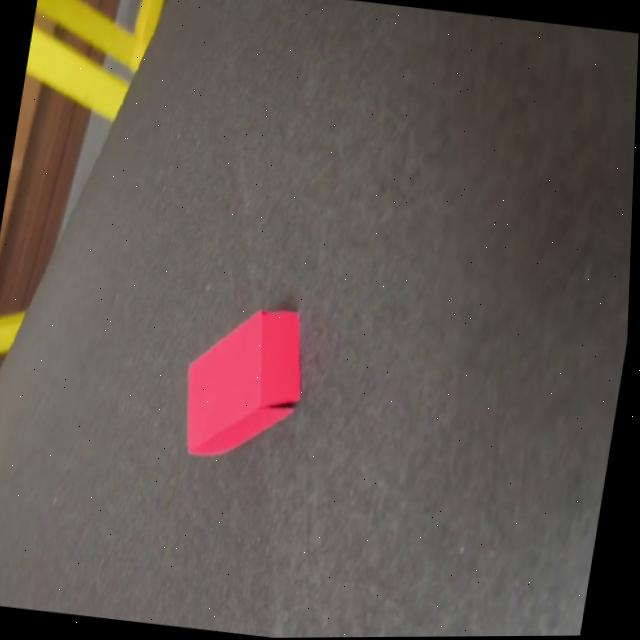red block: (173, 296, 315, 466)
